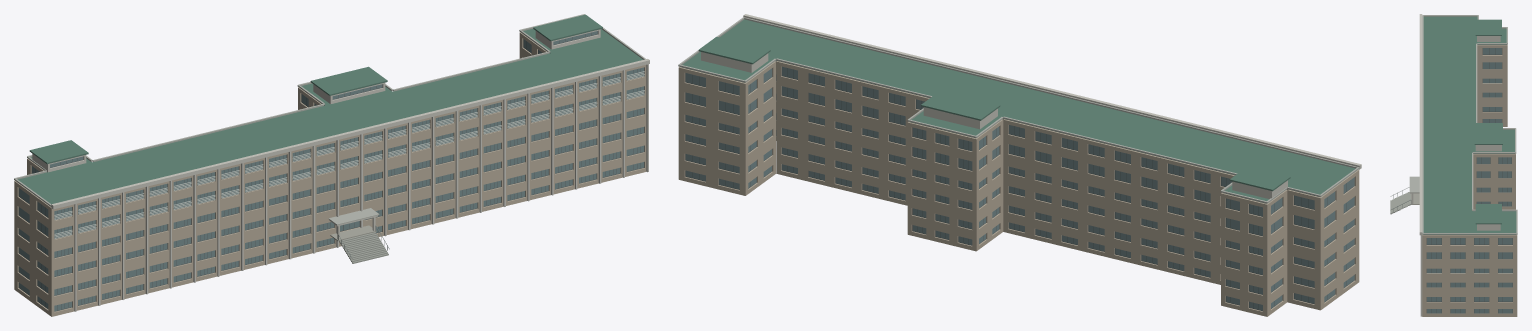
3 views of the same model, side by side, from view 1: azimuth 30°, elevation 25°; view 2: azimuth 150°, elevation 25°; view 3: azimuth 270°, elevation 25° (orthographic). The views are drawn at different scales.
Parts seen in each view (by area): view 1: boys__wall, boys__roof, boys__glass, boys__pier, boys__frame, boys__louver, boys__white, boys__trim, boys; view 2: boys__wall, boys__roof, boys__glass, boys__frame, boys__white, boys__trim; view 3: boys__roof, boys__wall, boys__glass, boys__trim, boys__white, boys__frame, boys, boys__pier.
Part boxes in pixels (x1=…): boys__wall: x1=14, y1=32, x2=646, y2=316; boys__roof: x1=18, y1=14, x2=643, y2=204; boys__glass: x1=19, y1=31, x2=643, y2=311; boys__pier: x1=74, y1=64, x2=648, y2=311; boys__frame: x1=18, y1=31, x2=644, y2=311; boys__louver: x1=54, y1=71, x2=644, y2=238; boys__white: x1=32, y1=29, x2=649, y2=239; boys__trim: x1=14, y1=14, x2=645, y2=224; boys: x1=339, y1=232, x2=388, y2=263; boys__wall: x1=678, y1=61, x2=1359, y2=316; boys__roof: x1=682, y1=19, x2=1355, y2=203; boys__glass: x1=685, y1=60, x2=1354, y2=310; boys__frame: x1=685, y1=67, x2=1354, y2=311; boys__white: x1=701, y1=14, x2=1361, y2=198; boys__trim: x1=678, y1=17, x2=1359, y2=203; boys__roof: x1=1423, y1=16, x2=1516, y2=234; boys__wall: x1=1422, y1=44, x2=1517, y2=316; boys__glass: x1=1427, y1=48, x2=1512, y2=313; boys__trim: x1=1409, y1=15, x2=1517, y2=234; boys__white: x1=1410, y1=14, x2=1501, y2=235; boys__frame: x1=1426, y1=48, x2=1512, y2=313; boys: x1=1390, y1=192, x2=1410, y2=214; boys__pier: x1=1420, y1=235, x2=1422, y2=316.
Bounding box in the file's own units: 109 × 21.04 × 26.82.
